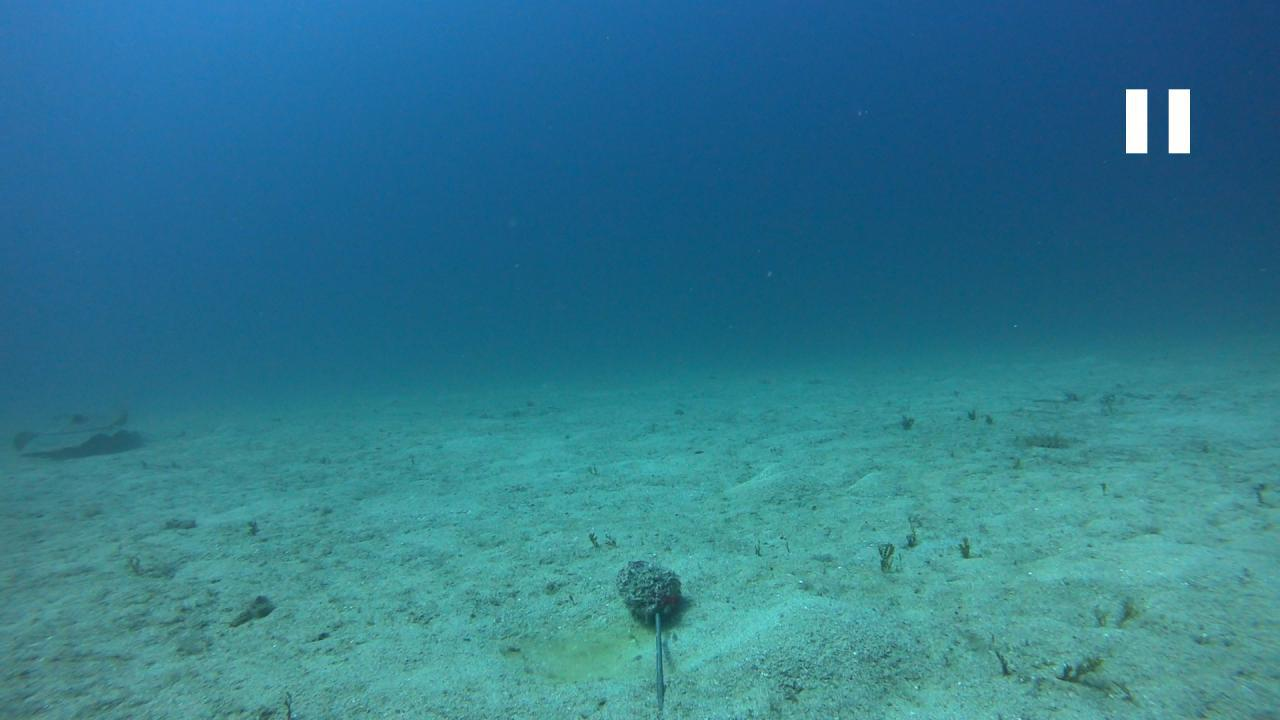dasyatis: (10, 402, 130, 450)
